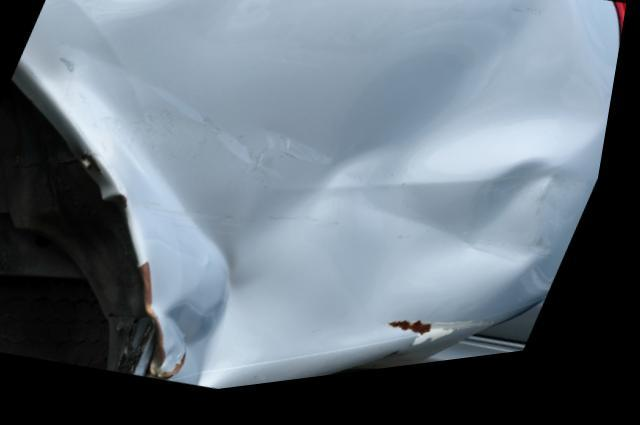dent: (32, 0, 613, 392)
